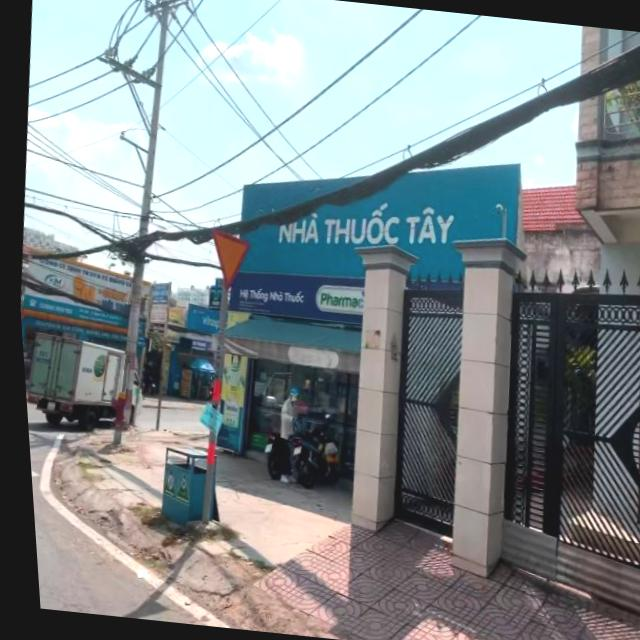Giao nhau voi duong uu tien: (196, 220, 252, 294)
